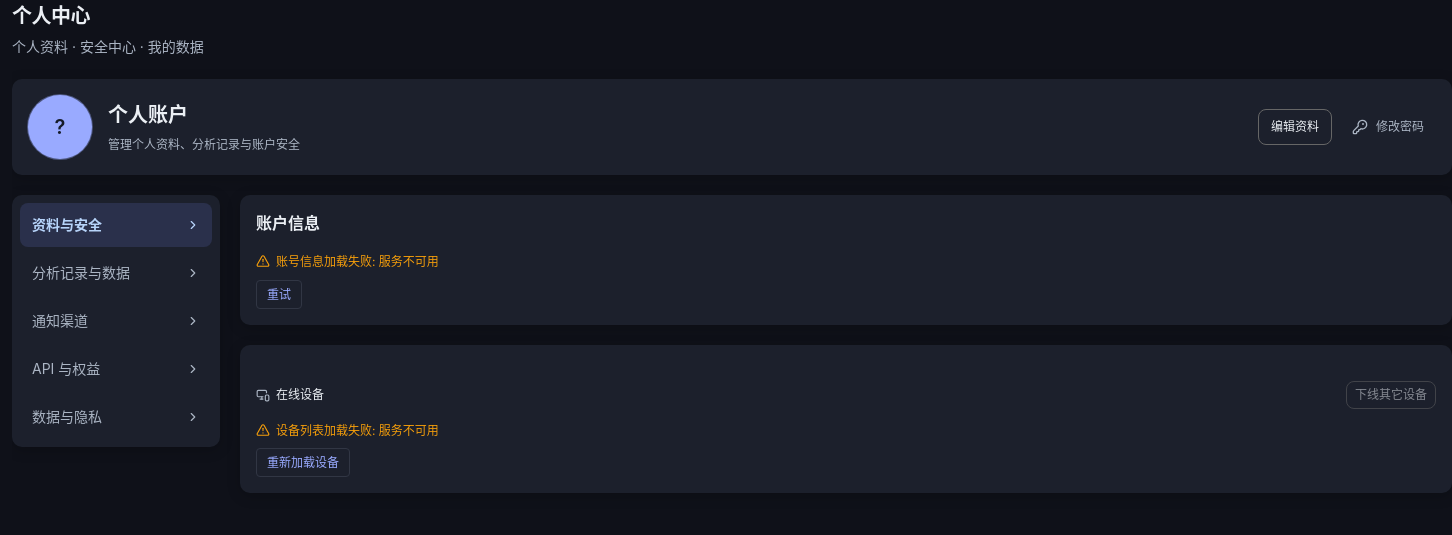
个人中心 当前账号 (走查 B) › 拉取失败后点重试成功 → 真实值上屏(不再停留在故障态)
Expected: the message "账号信息加载失败: 服务不可用 重试" is shown, [256, 254, 439, 309]
Click the button "重试" at [279, 294], box [256, 280, 302, 309]
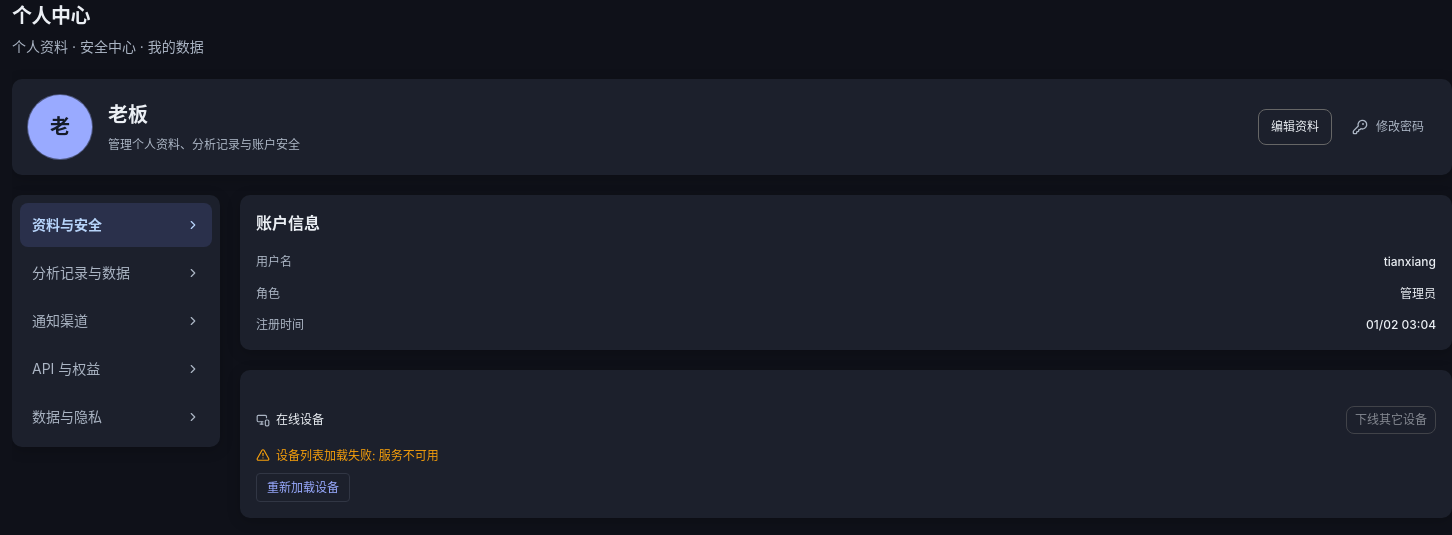
Expected: the text "tianxiang" is shown, [1384, 252, 1436, 272]
Expected: the text "管理员" is shown, [1400, 284, 1436, 303]
Expected: the message "账号信息加载失败: 服务不可用 重试" is gone
